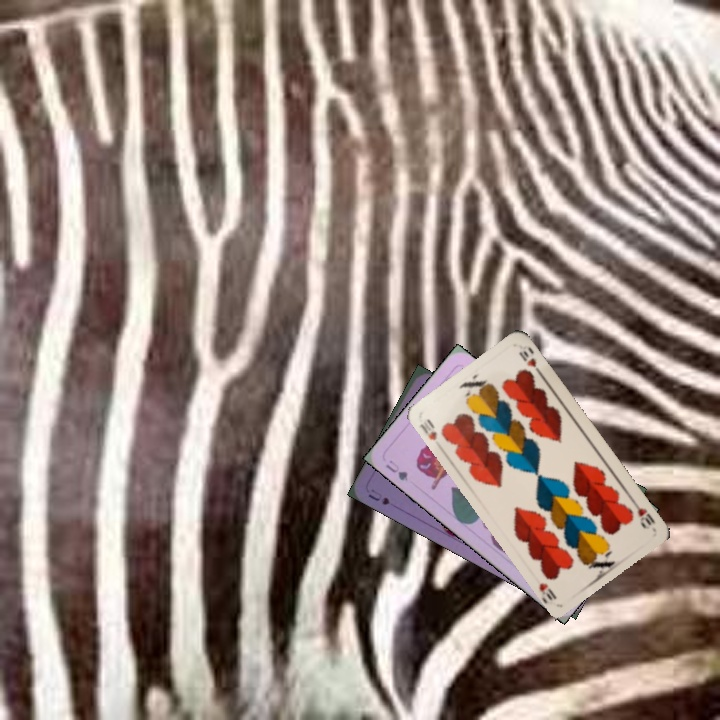GU: (381, 456, 411, 484)
H10: (627, 495, 658, 532), (416, 415, 439, 443)
SU: (364, 485, 392, 508)
